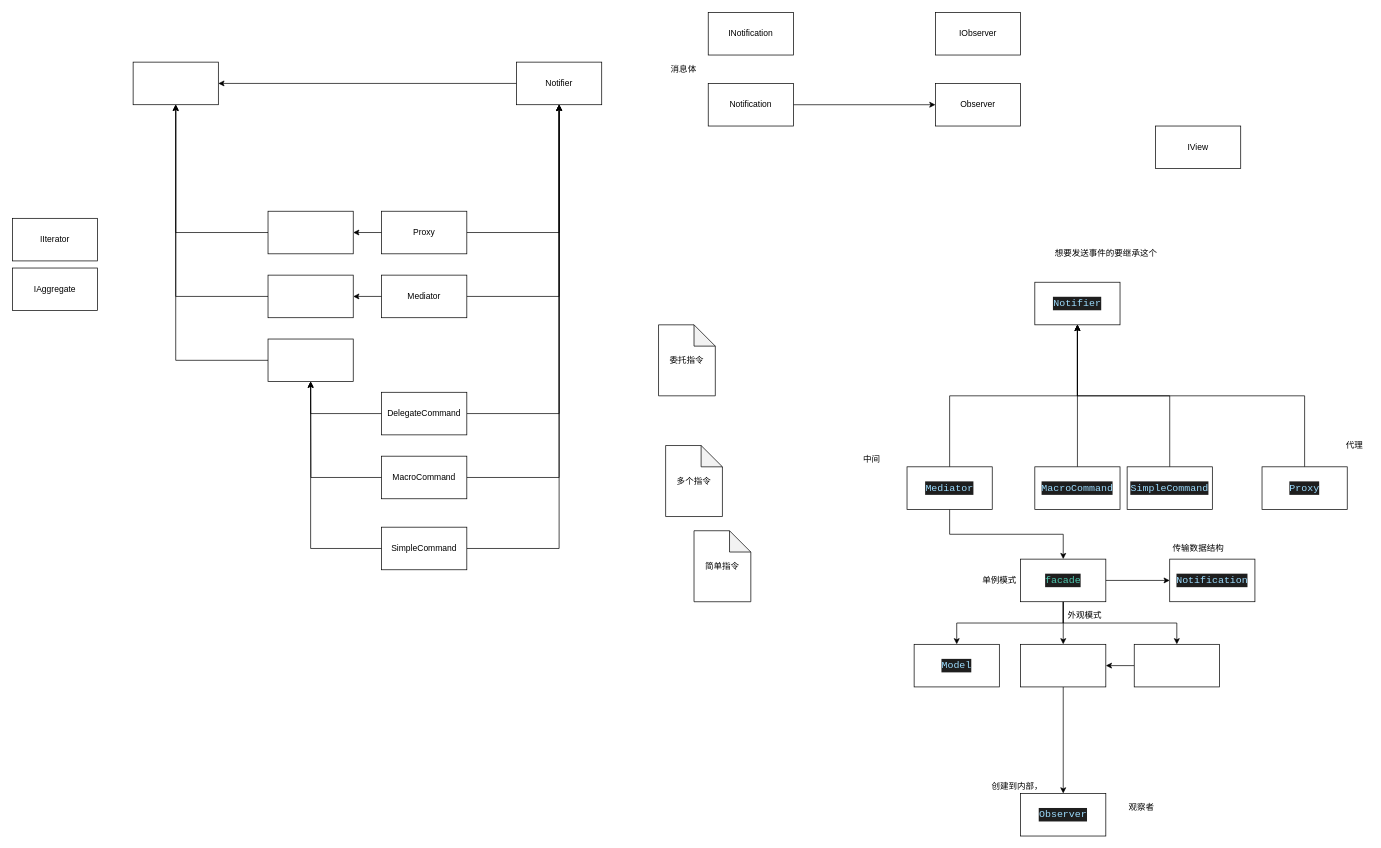
Some shapes in this 1381 by 848 pixel diagram are drawn without their labels. The shapes that lost their labels are listed below. From the top down, each one's centre as x and y in pixels, then its label:
At point 175,83: "INotifier".
At point 310,232: "IProxy".
At point 310,296: "IMediator".
At point 310,360: "ICommand".
At point 1063,665: "View".
At point 1176,665: "Controller".
